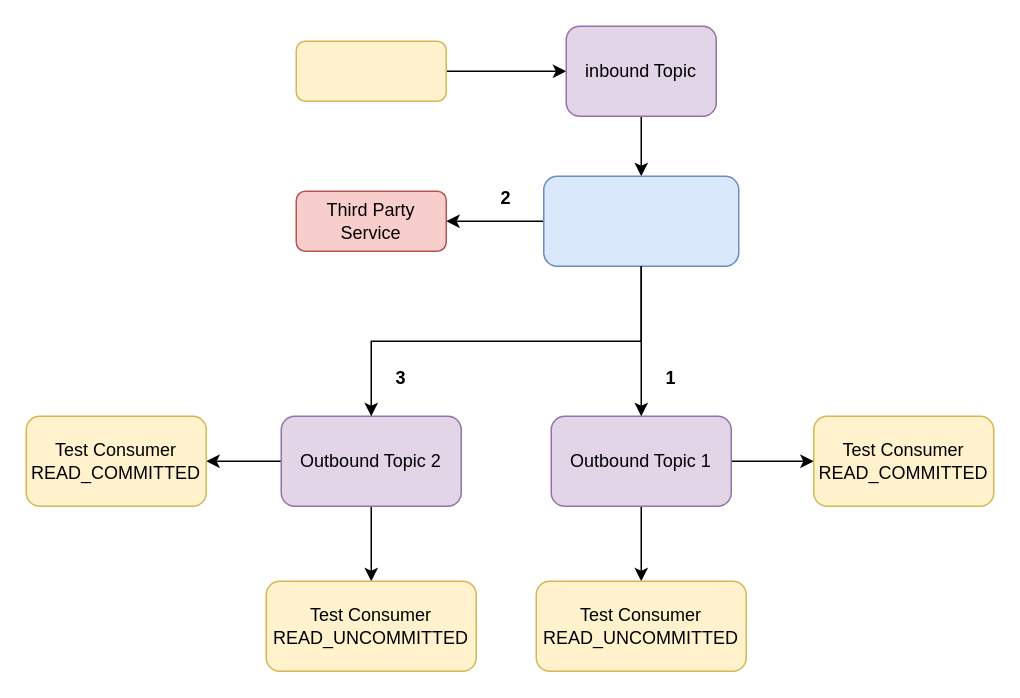
This 1020x698 diagram has some shape labels left out. The shapes that lost their labels are listed below. From the top down, each one's centre as x and y in pixels, then its label:
the point at 370,70: Test Producer
the point at 640,220: Application (Consumer, Producer)
